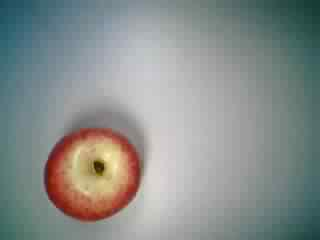apple: (42, 125, 146, 225)
